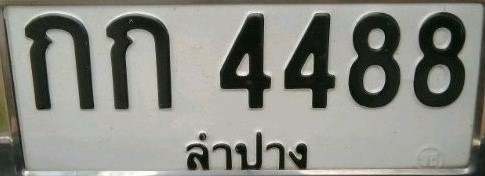txt01: (23, 10, 96, 113), (103, 11, 175, 112)
